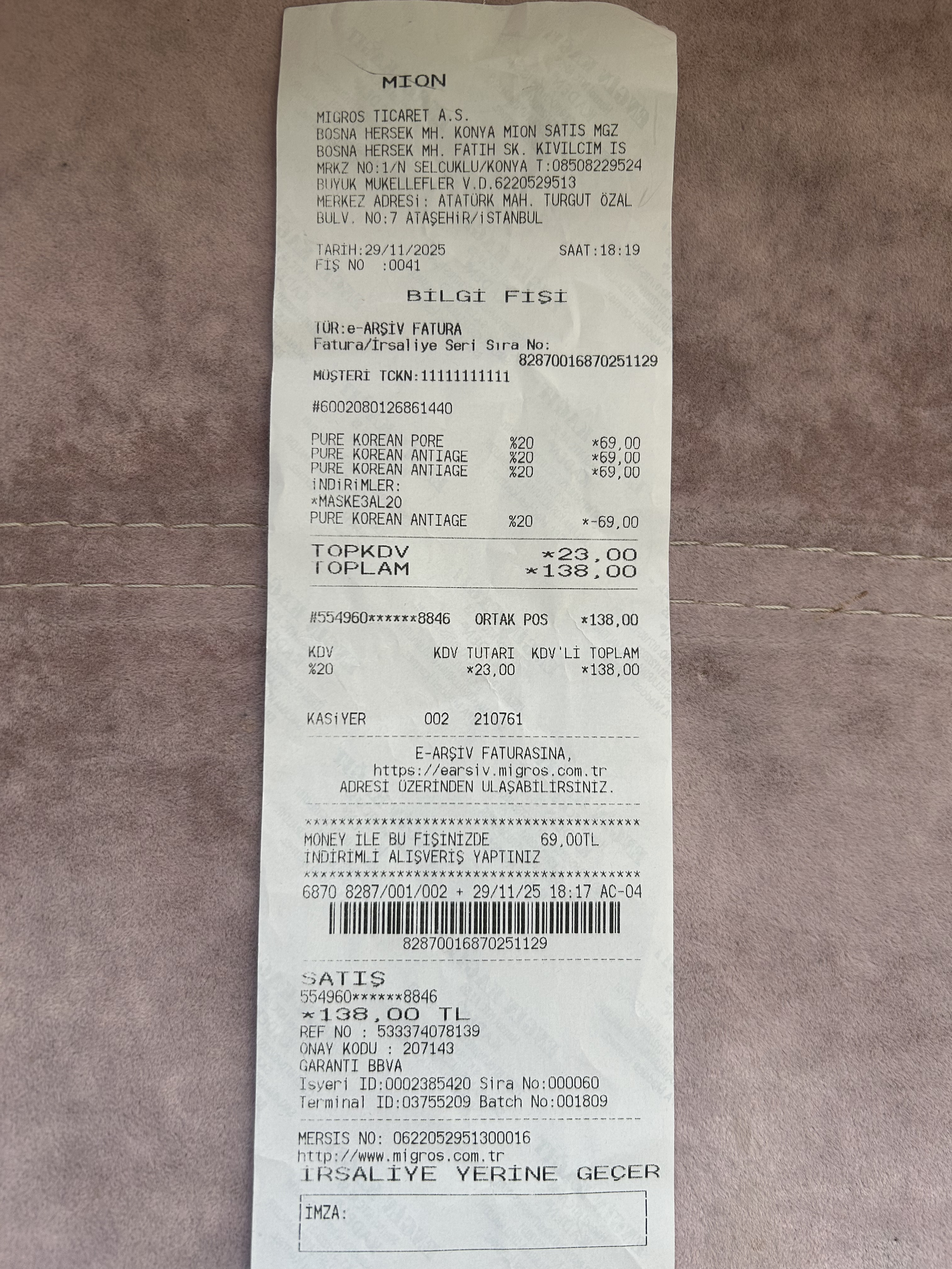date: (362, 237, 453, 258)
price: (539, 561, 650, 586)
workplace: (307, 68, 648, 179)
